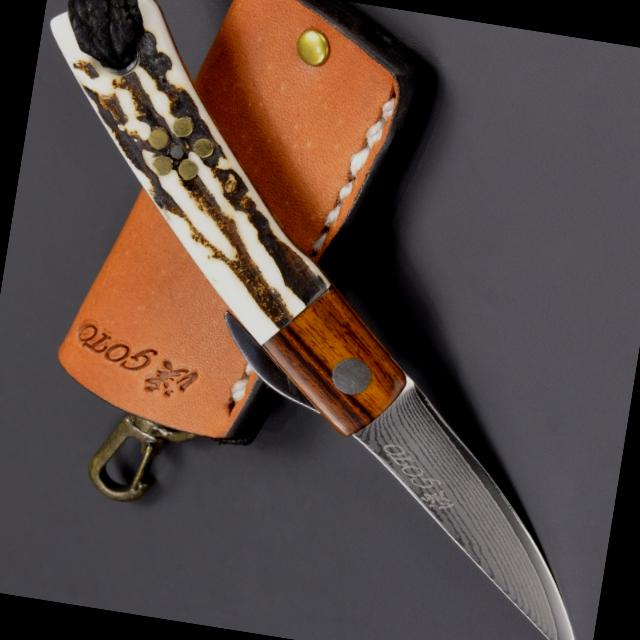knife: (275, 351, 625, 639)
